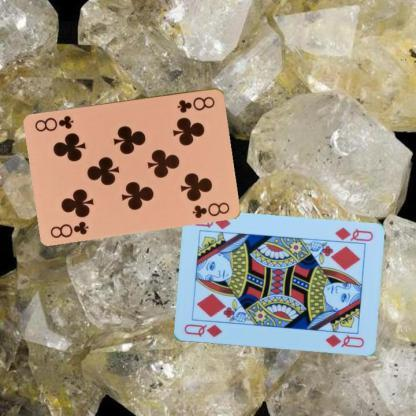8c: (48, 218, 90, 240), (175, 93, 216, 114)
Qd: (329, 225, 374, 246), (182, 322, 223, 338)
